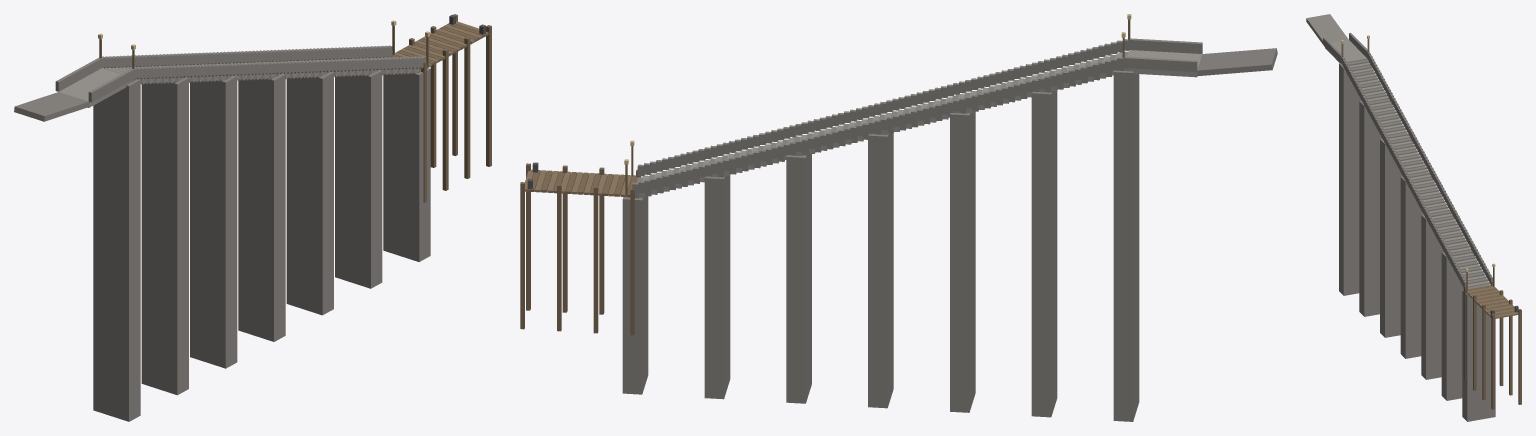
File: ash_landing_obsidian_arch.glb
3 views of the same model, side by side, from view 1: azimuth 30°, elevation 25°; view 2: azimuth 150°, elevation 25°; view 3: azimuth 270°, elevation 25° (orthographic). The views are drawn at different scales.
Visible parts, largest first — view 1: geometry_0; view 2: geometry_0; view 3: geometry_0.
Boxes of the visible parts, box(x1,y1,x2,y2) form: geometry_0: box(14, 14, 491, 421); geometry_0: box(520, 14, 1277, 421); geometry_0: box(1306, 14, 1521, 421).
Size of the model in its own units: 58.2 by 34.7 by 26.84.
